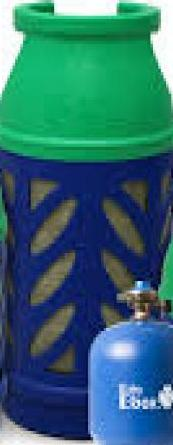cylinder: (1, 1, 173, 445)
